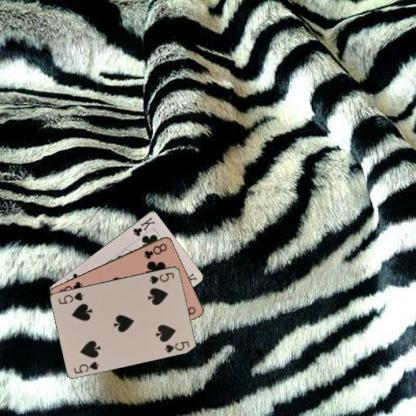5s: (71, 358, 101, 375), (146, 270, 176, 285)
8c: (142, 240, 168, 260)
Kc: (130, 214, 156, 237)
